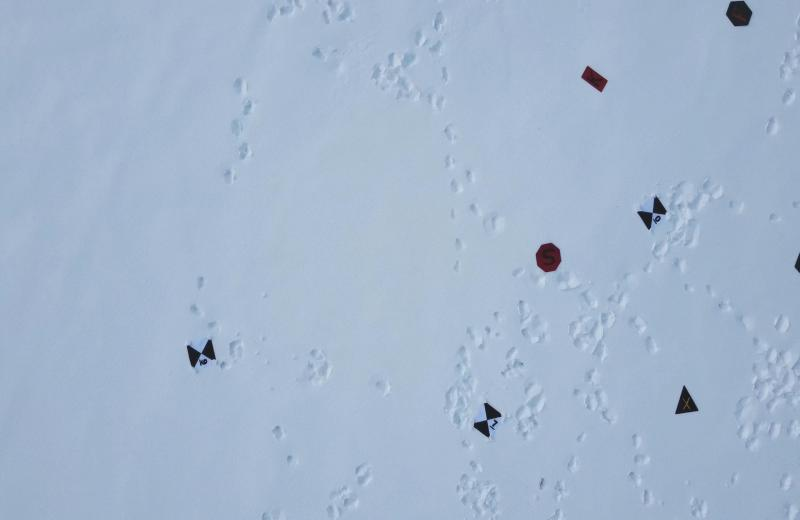Hexagon: (725, 0, 753, 29)
Octagon: (535, 239, 564, 274)
Rectangle: (582, 64, 608, 96)
Triangle: (673, 384, 698, 418)
